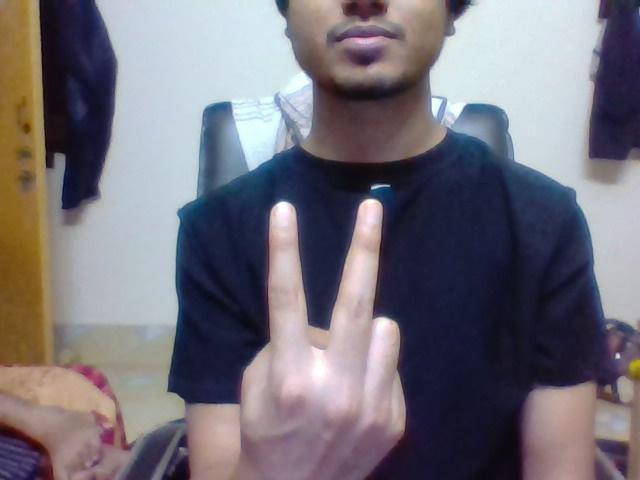V: (262, 197, 390, 341)
